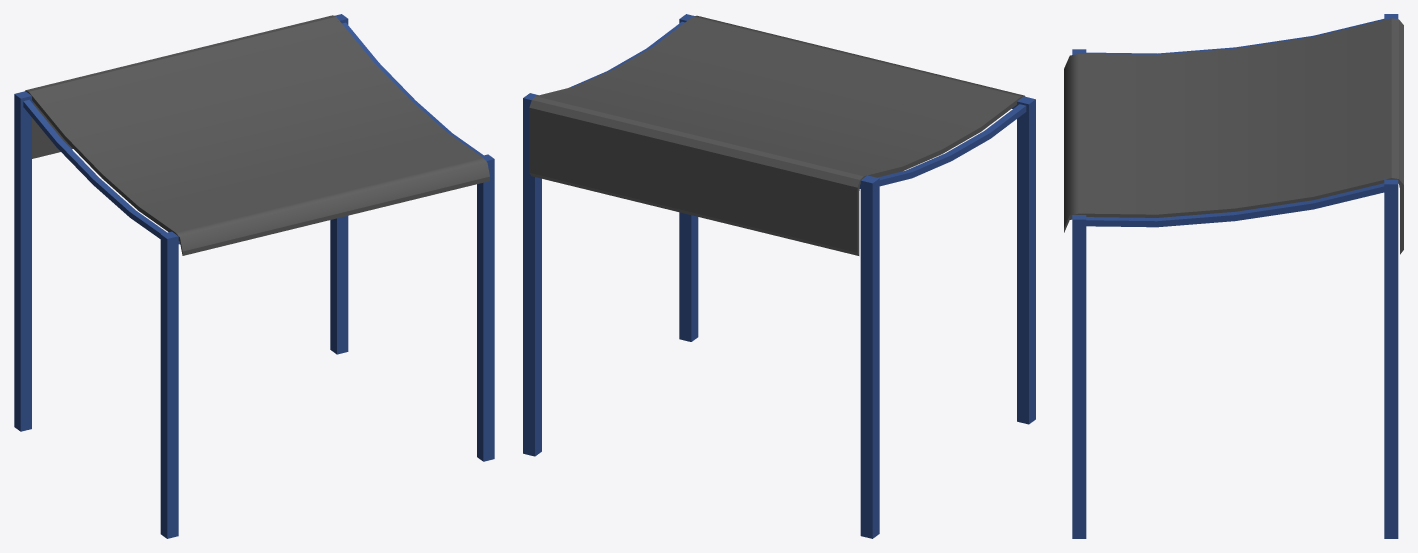
The model's file is CoveredStall_03.fbx.
The picture shows the model from 3 angles, left to right: view 1: azimuth 30°, elevation 25°; view 2: azimuth 150°, elevation 25°; view 3: azimuth 270°, elevation 25°; orthographic projection. The views are drawn at different scales.
Parts seen in each view (by area): view 1: CoveredStall_03; view 2: CoveredStall_03; view 3: CoveredStall_03.
Boxes of the visible parts, left/top/right/bottom form: CoveredStall_03: left=14, top=14, right=494, bottom=538; CoveredStall_03: left=523, top=14, right=1035, bottom=538; CoveredStall_03: left=1064, top=14, right=1403, bottom=538.
Bounding box in the file's own units: 598 × 584 × 504.
